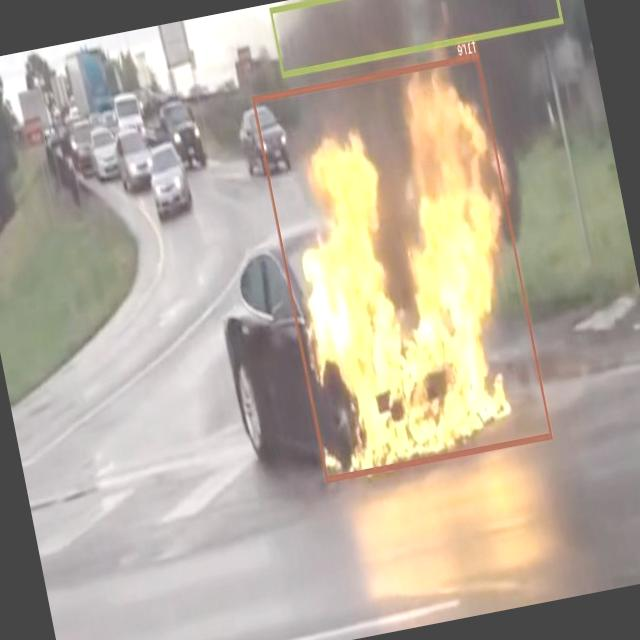fire: (252, 52, 554, 481)
smoke: (270, 0, 564, 76)
